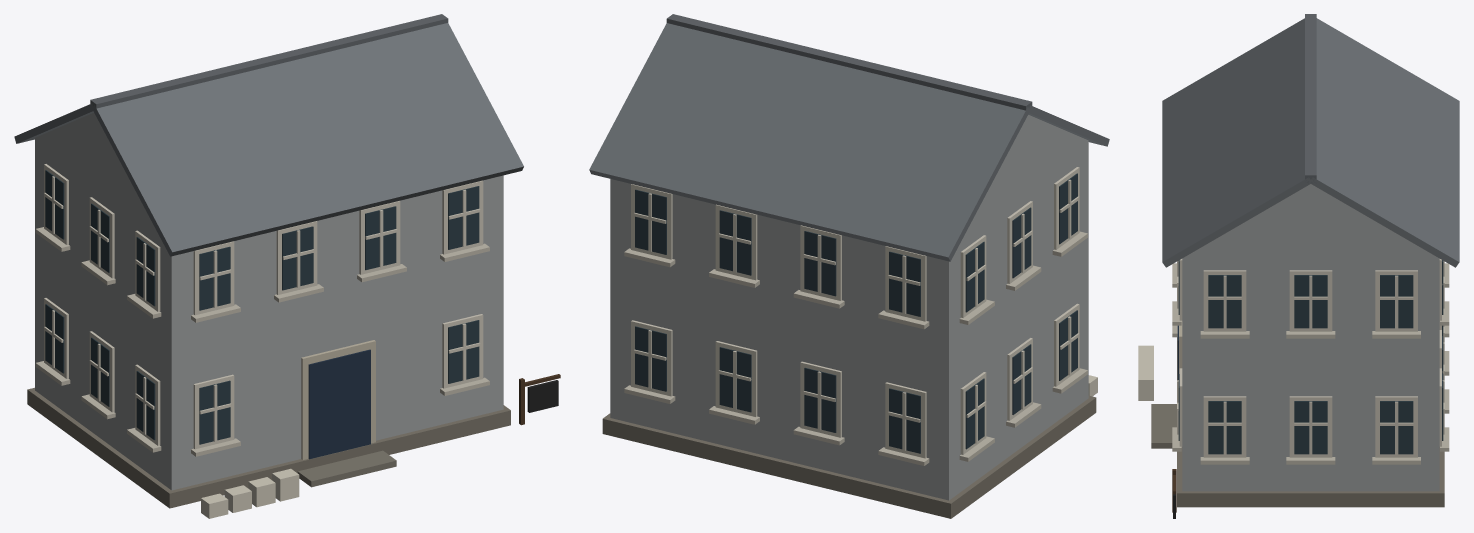
Rendered from procedural_printer@6.glb.
3 views of the same model, side by side, from view 1: azimuth 30°, elevation 25°; view 2: azimuth 150°, elevation 25°; view 3: azimuth 270°, elevation 25° (orthographic). The views are drawn at different scales.
Visible parts, largest first — view 1: part_0; view 2: part_0; view 3: part_0.
Boxes of the visible parts, x1,y1,x2,y2 form: part_0: (14,14,560,518); part_0: (589,14,1109,518); part_0: (1138,14,1459,518).
Size of the model in its own units: 8.31 by 7.17 by 6.24.
